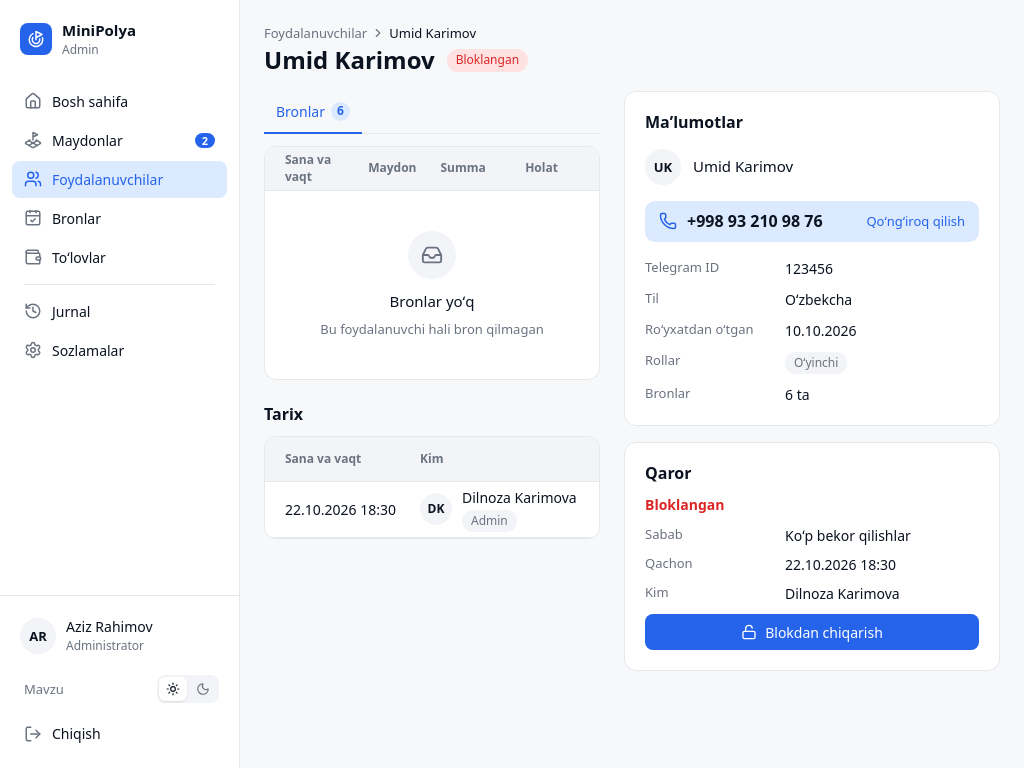
Foydalanuvchilar — detail › shows who blocked a user, when and why, and unblocks
The image size is (1024, 768).
Expected: the text "Koʻp bekor qilishlar" is shown, left=785, top=526, right=911, bottom=545
Expected: the text "22.10.2026 18:30" is shown, left=785, top=555, right=896, bottom=574
Click the button "Blokdan chiqarish" at x=812, y=632, box left=645, top=614, right=979, bottom=650
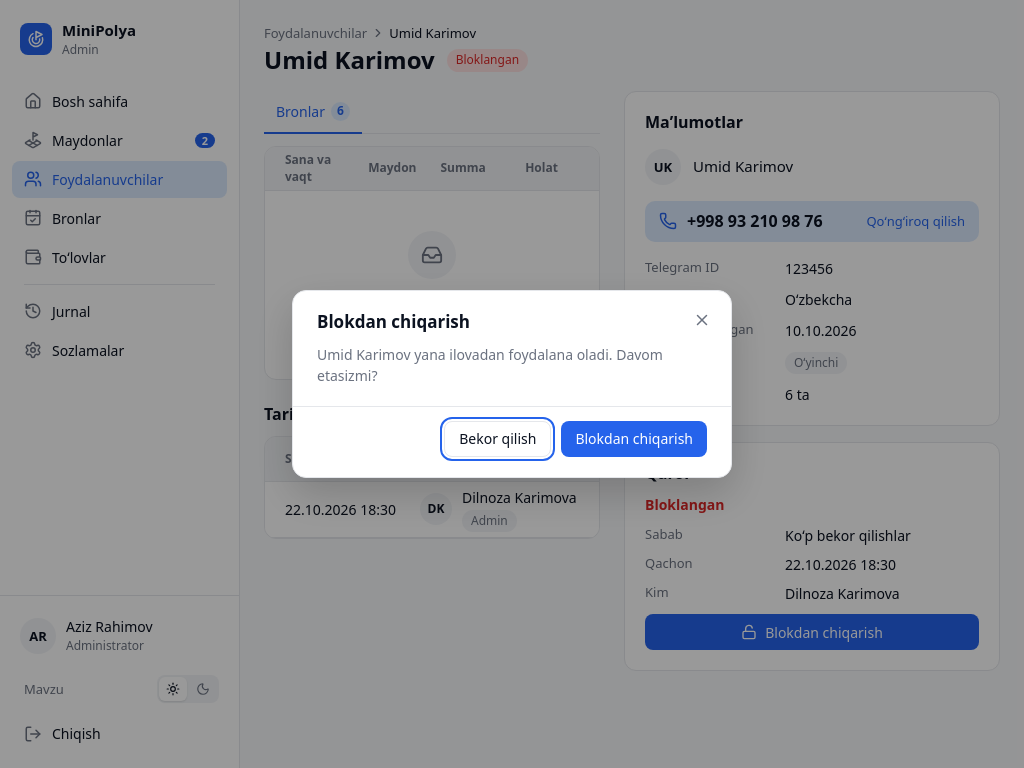
Click the button "Blokdan chiqarish" at x=634, y=438, box left=561, top=420, right=707, bottom=456
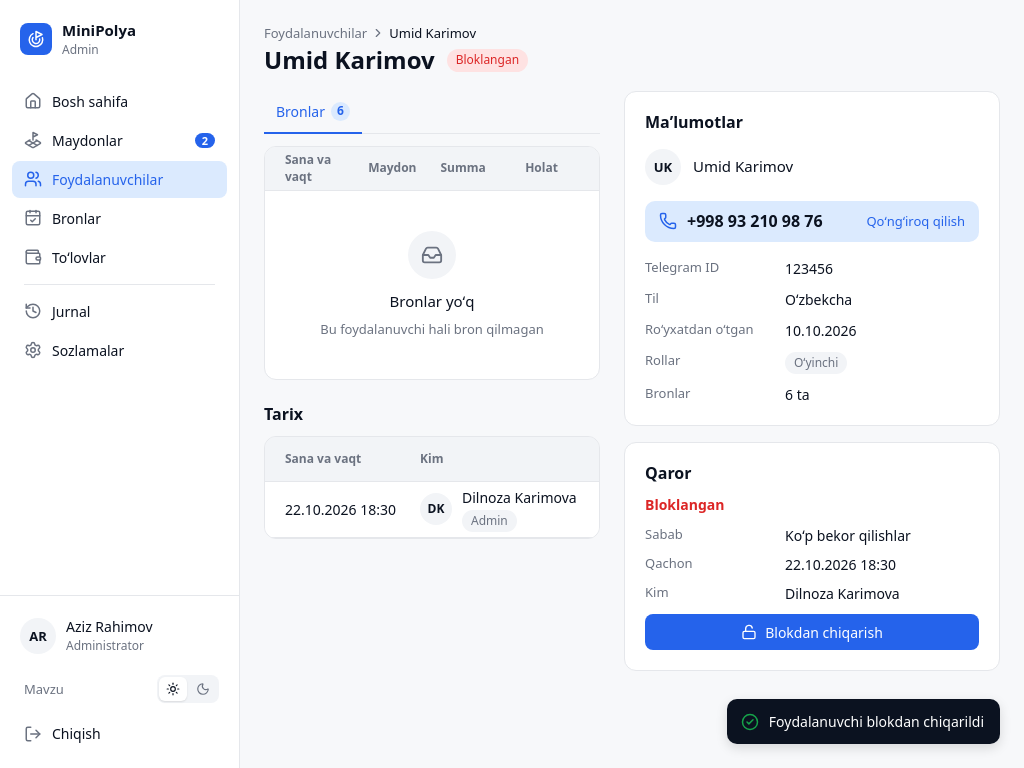
Expected: the text "Foydalanuvchi blokdan chiqarildi" is shown, left=769, top=711, right=984, bottom=732
